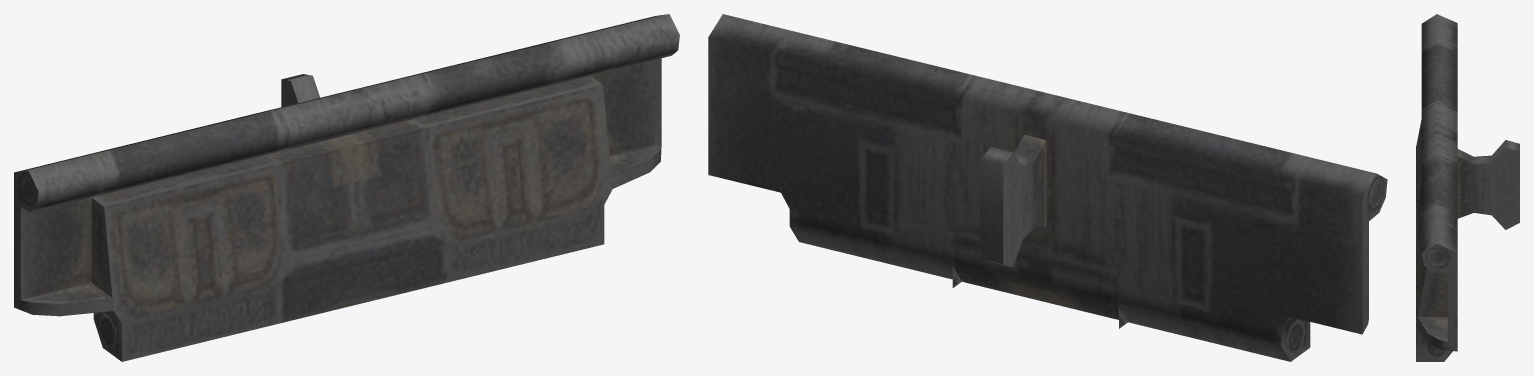
The picture shows the model from 3 angles, left to right: view 1: azimuth 30°, elevation 25°; view 2: azimuth 150°, elevation 25°; view 3: azimuth 270°, elevation 25°; orthographic projection. The views are drawn at different scales.
Visible parts, largest first — view 1: set_0_group_0; view 2: set_0_group_0; view 3: set_0_group_0.
Boxes of the visible parts, x1,y1,x2,y2 form: set_0_group_0: (14, 14, 679, 361); set_0_group_0: (708, 14, 1387, 361); set_0_group_0: (1416, 14, 1519, 361).
Bounding box in the file's own units: 0.6002 × 0.1793 × 0.1149.
Materials: 1 (1 with a texture image).
